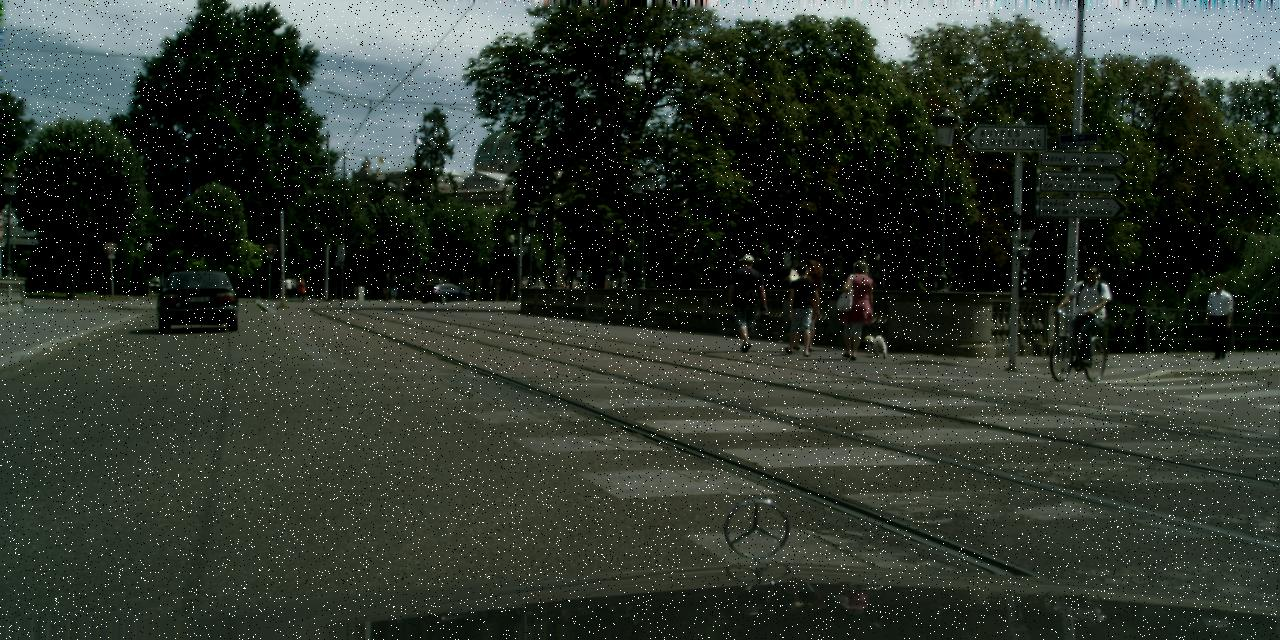ped: (1063, 264, 1103, 364), (835, 260, 875, 359), (728, 254, 768, 351), (789, 260, 826, 350), (782, 264, 818, 354), (1202, 280, 1234, 358), (380, 272, 391, 302), (388, 274, 398, 302), (283, 276, 292, 298), (297, 278, 305, 298), (289, 278, 297, 298)
